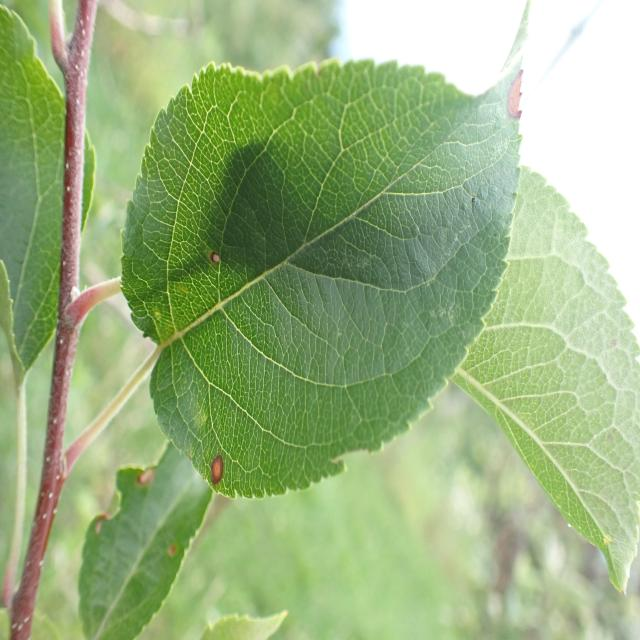Black Rot: (183, 434, 248, 518), (493, 62, 537, 144), (122, 453, 156, 494), (202, 243, 232, 286), (91, 502, 119, 543), (162, 535, 182, 570)
